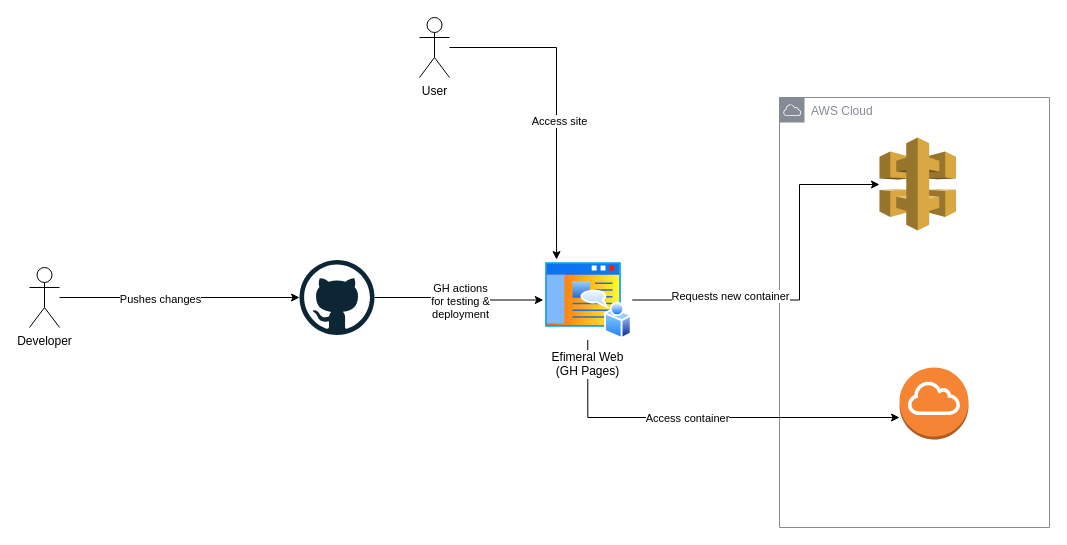
Image size: 1067x545. Some labels were removed from this diagram. Here are the shapes that lost their labels. From the top down, the centre of each, then its label:
(917,183): API gateway for lambdas
(933,403): Internet gateway for containers
